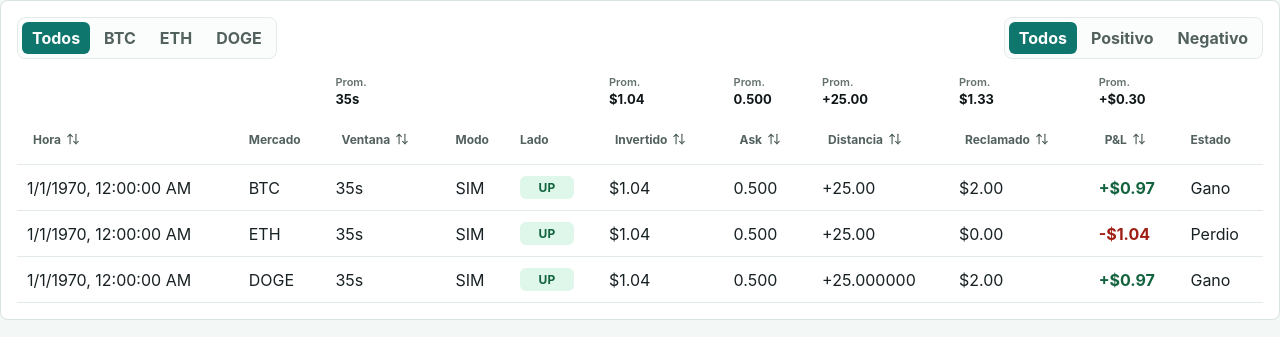
it: UI frontend components › filters trades by positive and negative P&L
Click the button "Negativo": (1213, 38) [1168,22,1258,54]
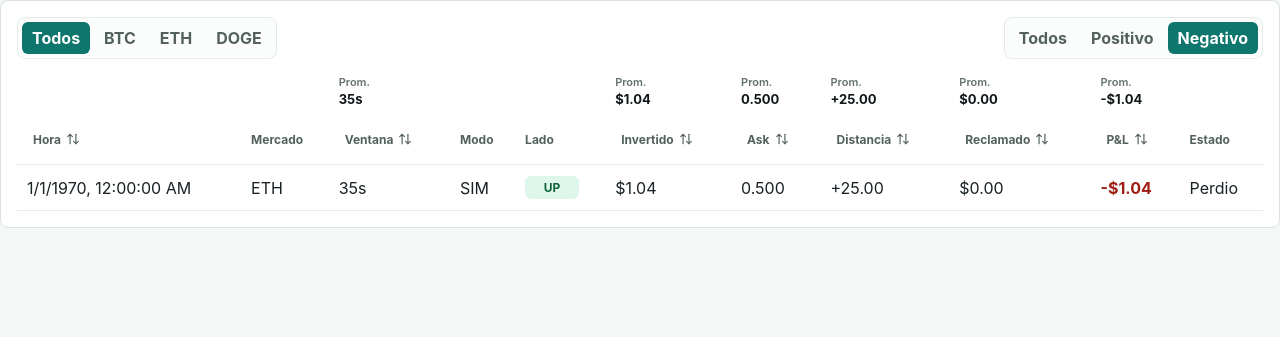
Expected: the text "ETH" is shown, [241,164,329,210]
Expected: the text "-$1.04" in the row of "1/1/1970, 12:00:00 AM" is shown, [1100,178,1152,198]
Click the button "Positivo": (1122, 38) [1081,22,1164,54]
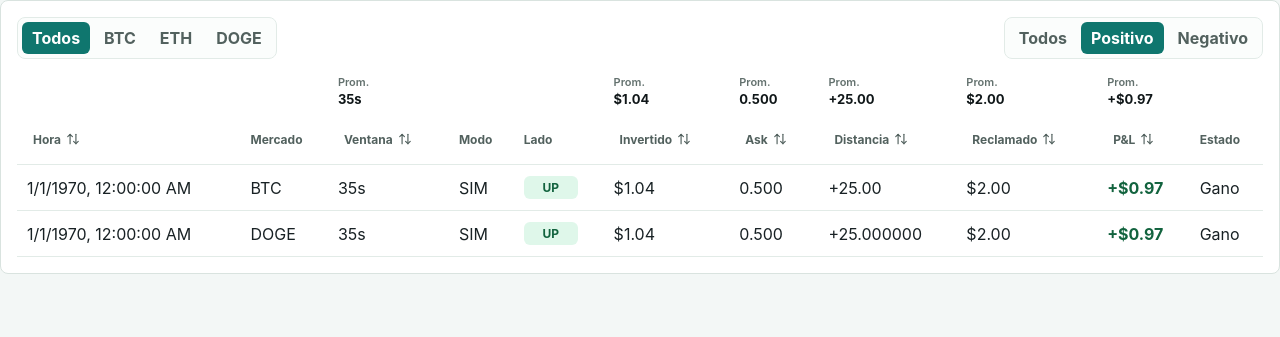
Now the text "BTC" is shown, box [240,164,328,210]
Now the text "DOGE" is shown, box [240,210,328,256]
